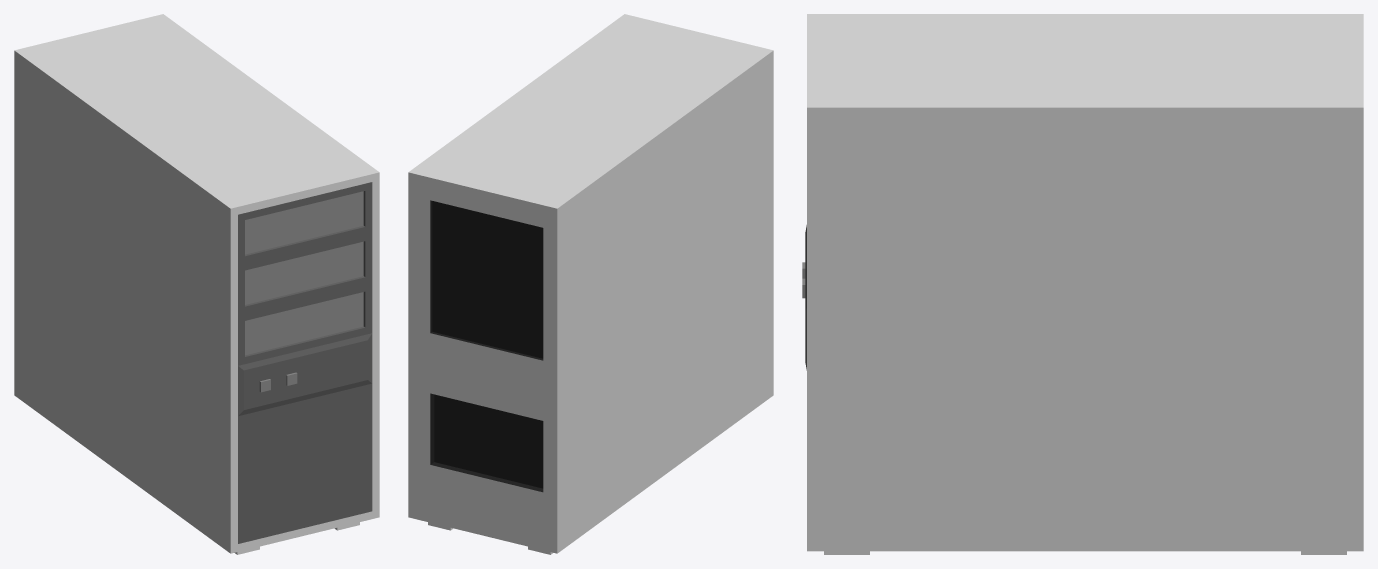
File: PcV1White.fbx
3 views of the same model, side by side, from view 1: azimuth 30°, elevation 25°; view 2: azimuth 150°, elevation 25°; view 3: azimuth 270°, elevation 25° (orthographic). The views are drawn at different scales.
Visible parts, largest first — view 1: PcV1White; view 2: PcV1White; view 3: PcV1White.
Boxes of the visible parts, bbox=[...] form: PcV1White: bbox=[14, 14, 379, 554]; PcV1White: bbox=[408, 14, 773, 554]; PcV1White: bbox=[802, 14, 1363, 554].
Bounding box in the file's own units: 22.61 × 51.35 × 57.34.
